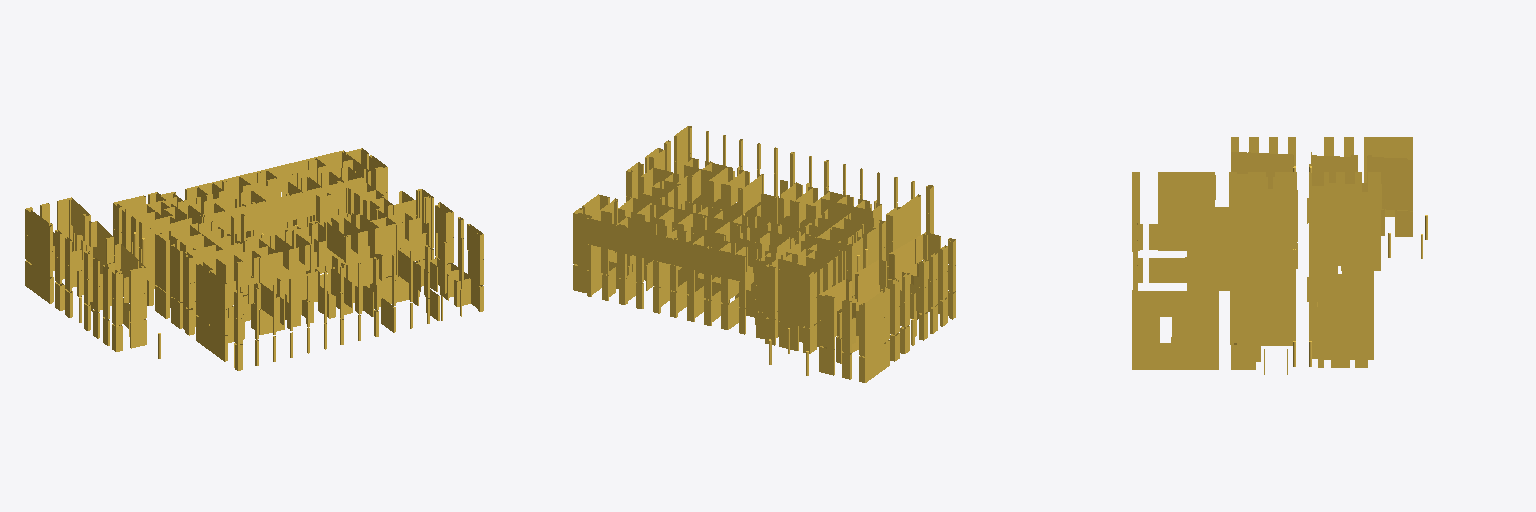
Rendered from ISELF_Walls.obj.
The picture shows the model from 3 angles: view 1: azimuth 30°, elevation 25°; view 2: azimuth 150°, elevation 25°; view 3: azimuth 270°, elevation 25°; orthographic projection.
Parts seen in each view (by area): view 1: 3rdFloor_walls, WALL, FirstFloorWalls; view 2: 3rdFloor_walls, WALL, FirstFloorWalls; view 3: 3rdFloor_walls, WALL, FirstFloorWalls.
Part boxes in pixels (bbox=[...]): 3rdFloor_walls: bbox=[25, 148, 483, 318]; WALL: bbox=[25, 177, 483, 344]; FirstFloorWalls: bbox=[25, 216, 483, 370]; 3rdFloor_walls: bbox=[573, 126, 955, 330]; WALL: bbox=[573, 153, 955, 356]; FirstFloorWalls: bbox=[573, 249, 955, 382]; 3rdFloor_walls: bbox=[1132, 137, 1412, 317]; WALL: bbox=[1132, 164, 1412, 342]; FirstFloorWalls: bbox=[1132, 166, 1427, 374].
Size of the model in its own units: 2452 by 552 by 1916.